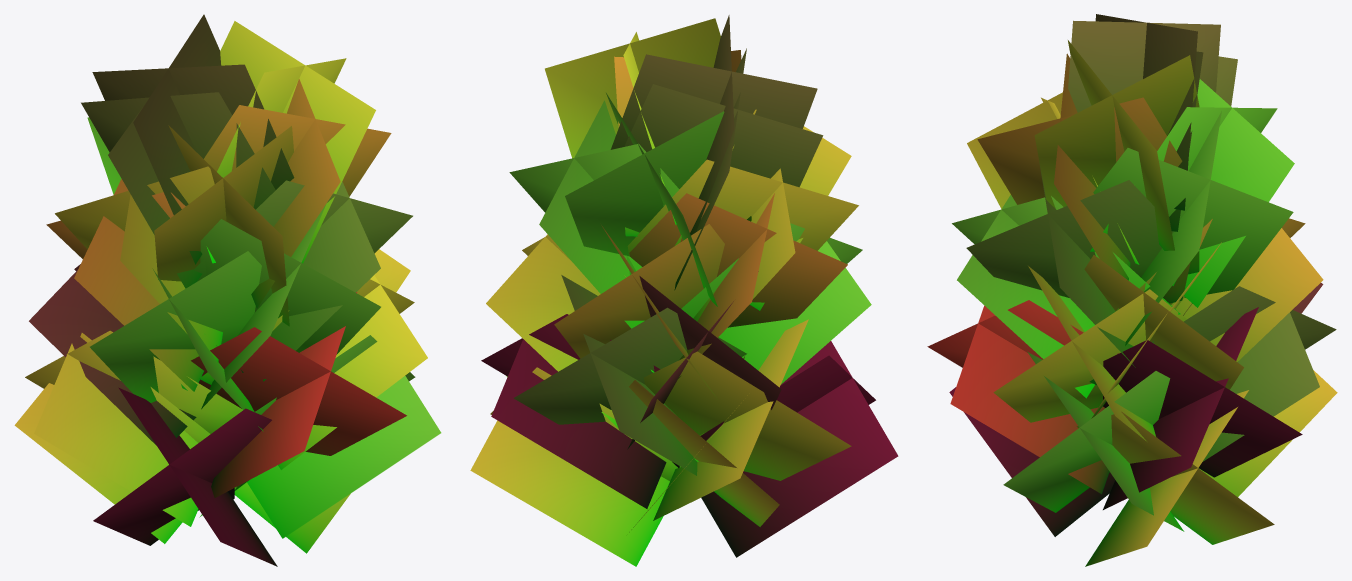
Rendered from Tree_3.fbx.
3 renders of one model, left to right at view 1: azimuth 30°, elevation 25°; view 2: azimuth 150°, elevation 25°; view 3: azimuth 270°, elevation 25°, orthographic.
Visible parts, largest first — view 1: Tree_3; view 2: Tree_3; view 3: Tree_3.
Part boxes in pixels (left/top/right/bottom): Tree_3: left=14, top=14, right=441, bottom=566; Tree_3: left=470, top=15, right=898, bottom=566; Tree_3: left=927, top=14, right=1337, bottom=566.
Size of the model in its own units: 1078 by 1420 by 1029.
